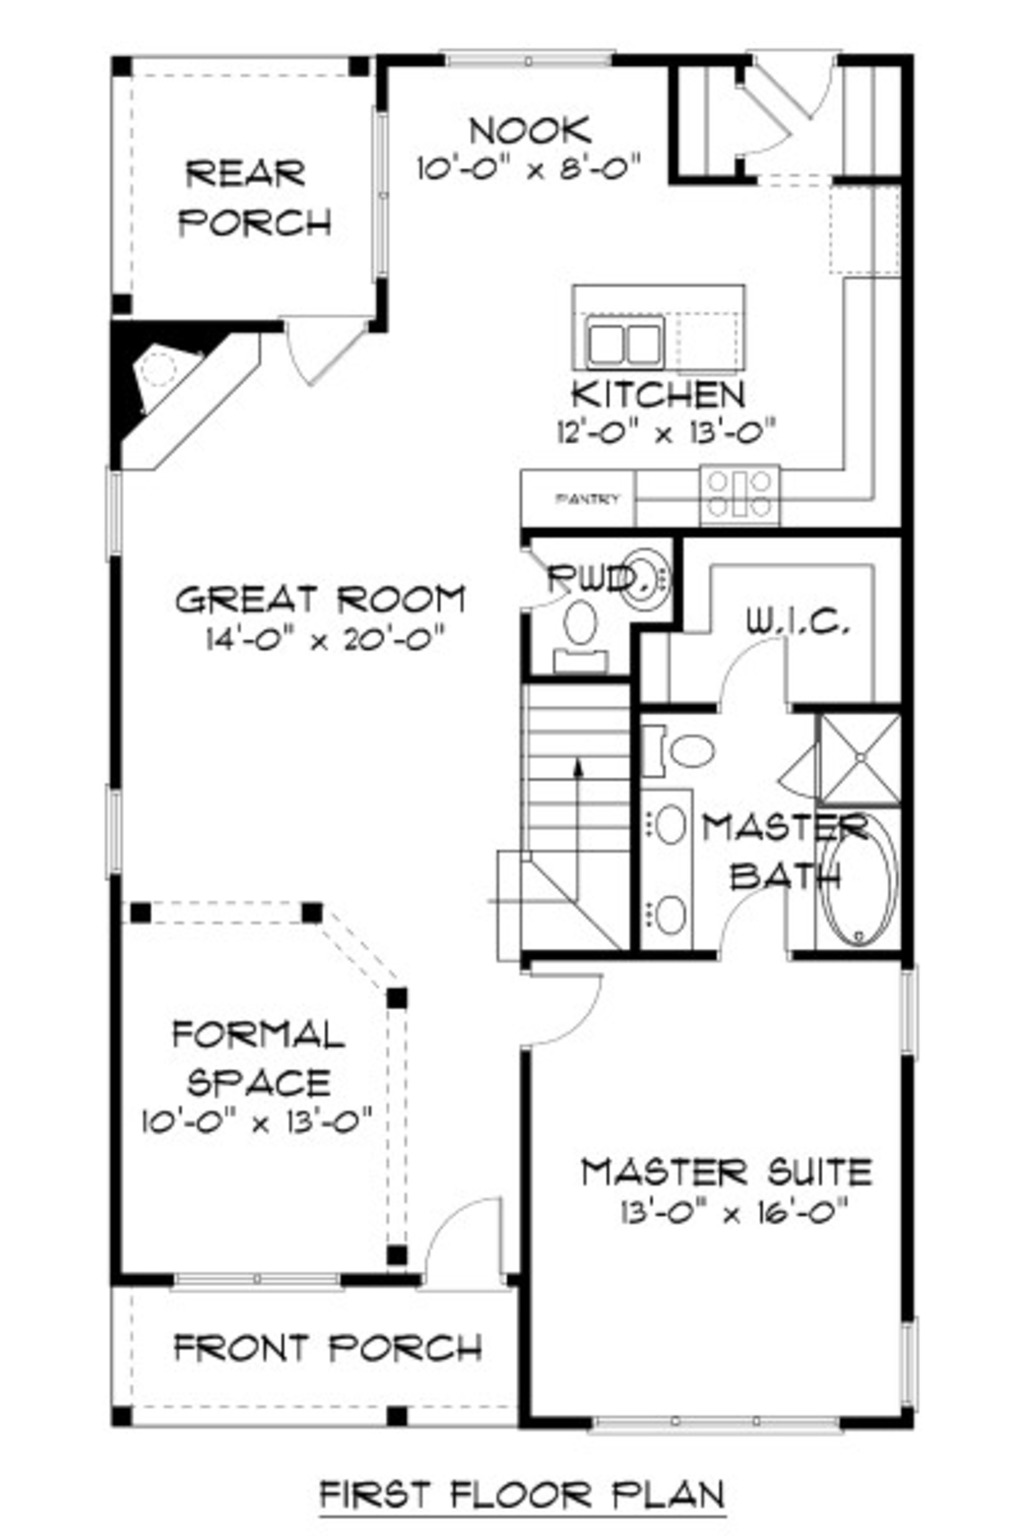door: (417, 1200, 523, 1307), (512, 967, 617, 1057), (712, 869, 800, 965), (272, 305, 381, 383), (753, 41, 846, 131), (717, 631, 800, 717), (727, 79, 798, 162), (519, 538, 581, 617)
large_sink: (635, 714, 747, 776), (541, 605, 617, 679)
small_sink: (624, 783, 696, 957), (619, 533, 677, 633)
stairs: (481, 677, 643, 949)
tub: (817, 793, 907, 950)
twin_sink: (579, 295, 672, 362)
window: (584, 1403, 843, 1445), (362, 105, 407, 293), (441, 38, 627, 72), (96, 462, 141, 560), (896, 1307, 929, 1419), (888, 965, 919, 1057), (101, 781, 123, 883)
